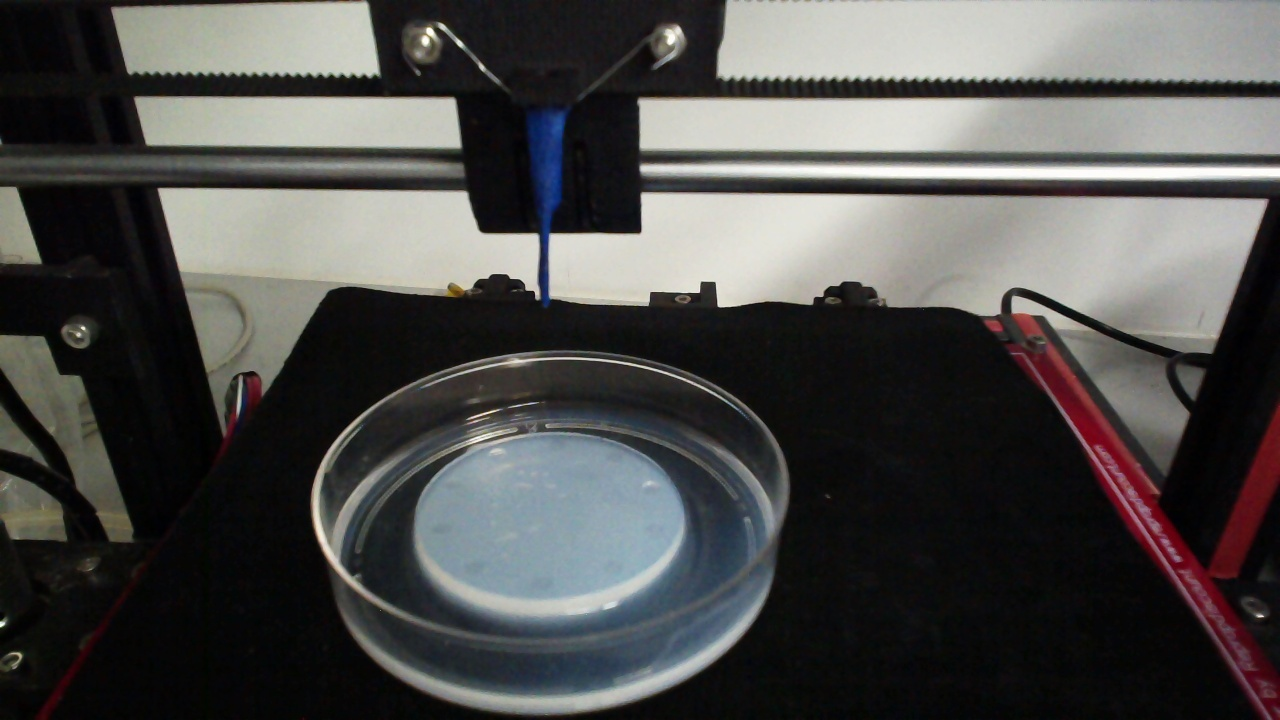groove: (429, 518, 457, 537), (460, 557, 485, 577), (530, 574, 554, 594), (639, 479, 663, 498), (601, 558, 625, 576), (643, 519, 667, 537), (604, 448, 626, 467), (548, 437, 570, 455), (441, 476, 463, 492), (487, 445, 507, 461)
needle: (528, 106, 565, 310)
